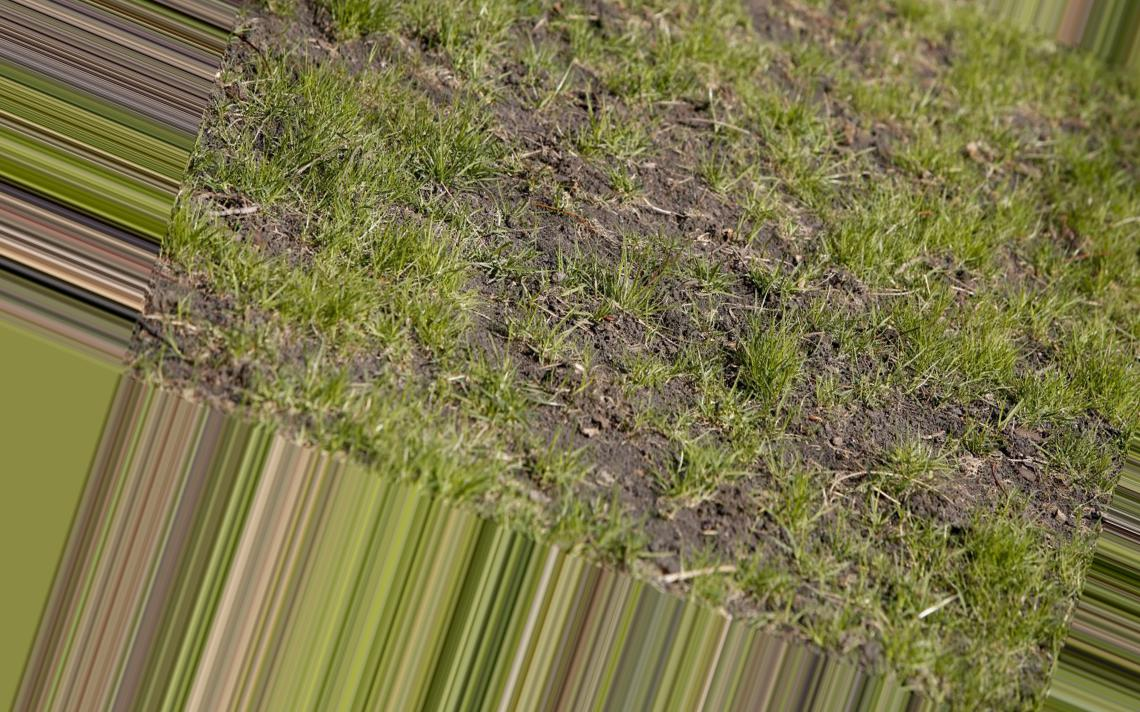patch: (490, 292, 686, 468), (541, 119, 769, 260), (710, 367, 953, 439)
